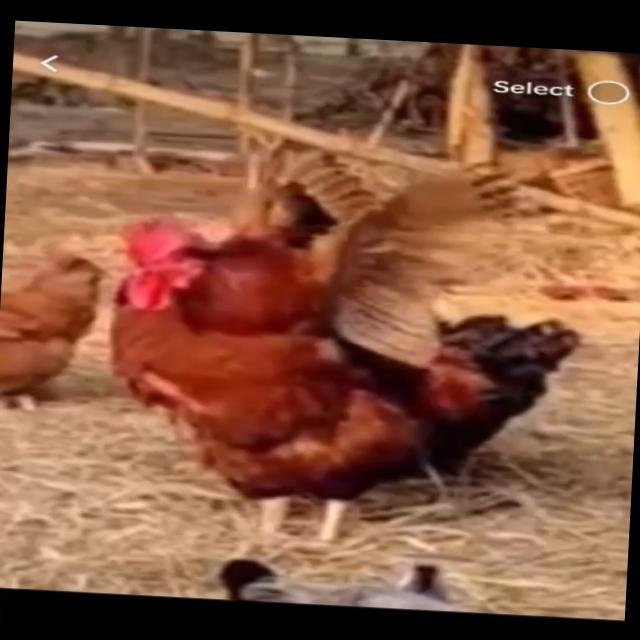wing flap: (38, 117, 596, 572)
